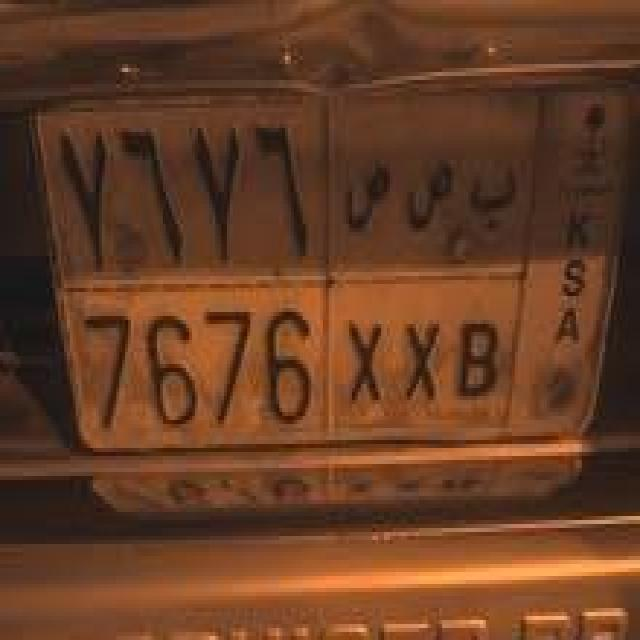license_plate: (0, 36, 561, 500)
